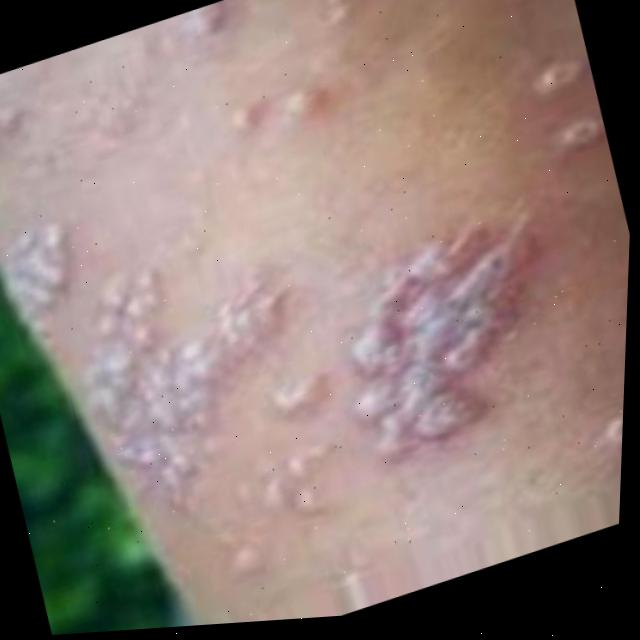Shingles: (0, 29, 637, 629)
